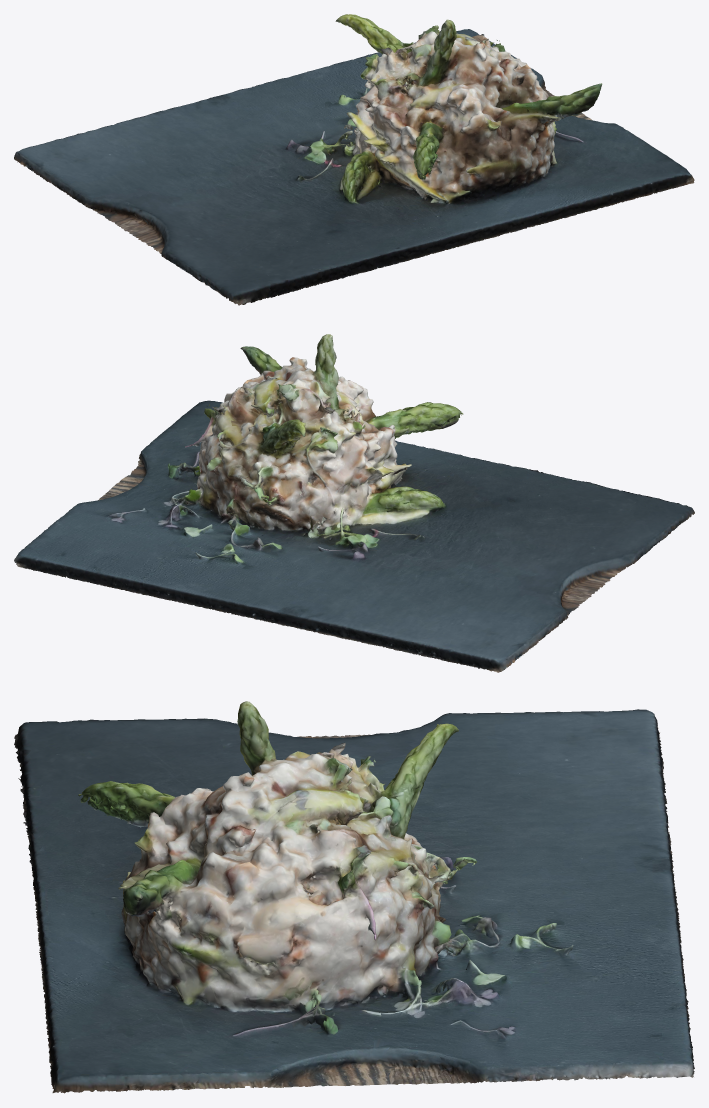
File: crni-rizot.glb
The picture shows the model from 3 angles, top to bottom: view 1: azimuth 30°, elevation 25°; view 2: azimuth 150°, elevation 25°; view 3: azimuth 270°, elevation 25°; orthographic projection. The views are drawn at different scales.
Parts seen in each view (by area): view 1: crni-rizot; view 2: crni-rizot; view 3: crni-rizot.
Part boxes in pixels (x1,y1,x2,y2): crni-rizot: (14, 14, 694, 305); crni-rizot: (14, 334, 694, 672); crni-rizot: (14, 701, 694, 1093).
Bounding box in the file's own units: 0.26 × 0.0831 × 0.2003.
Materials: 1 (1 with a texture image).
